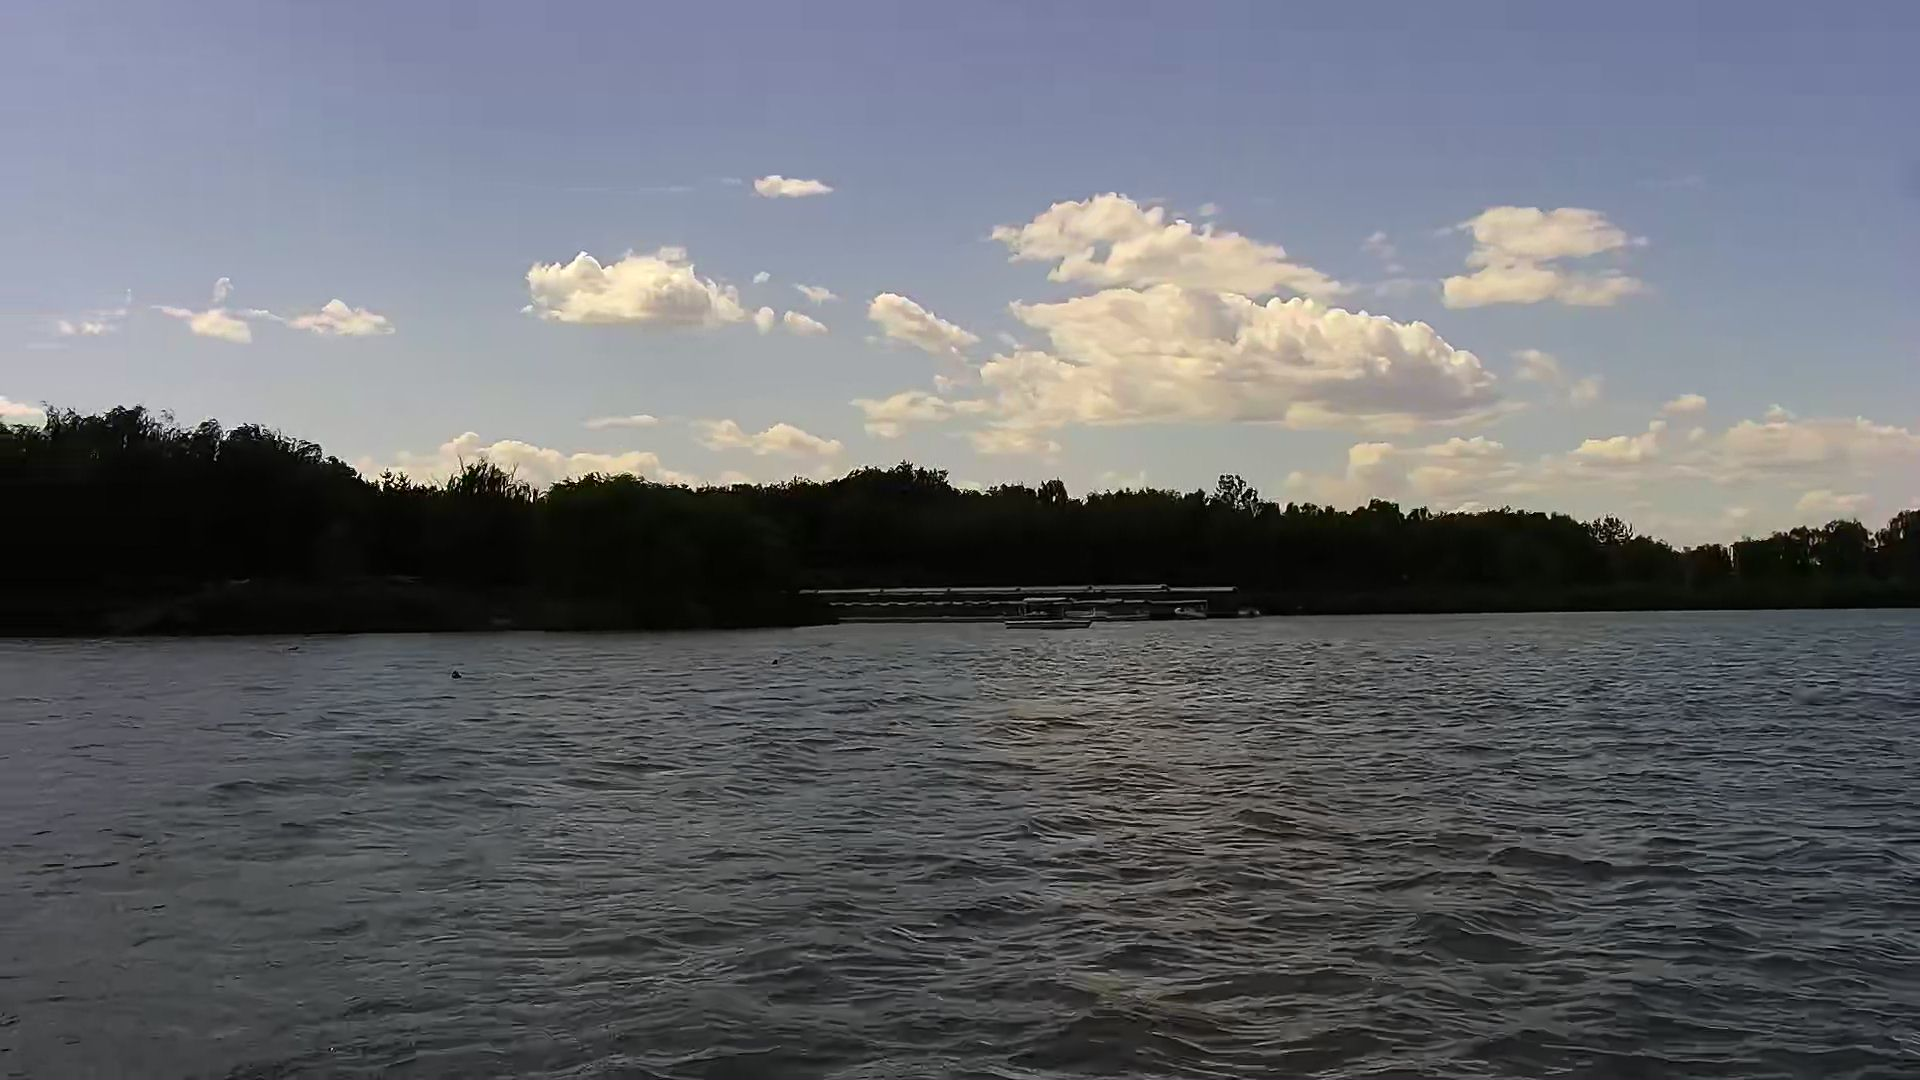boat: (1011, 595, 1106, 632)
harbor: (799, 584, 1253, 622)
